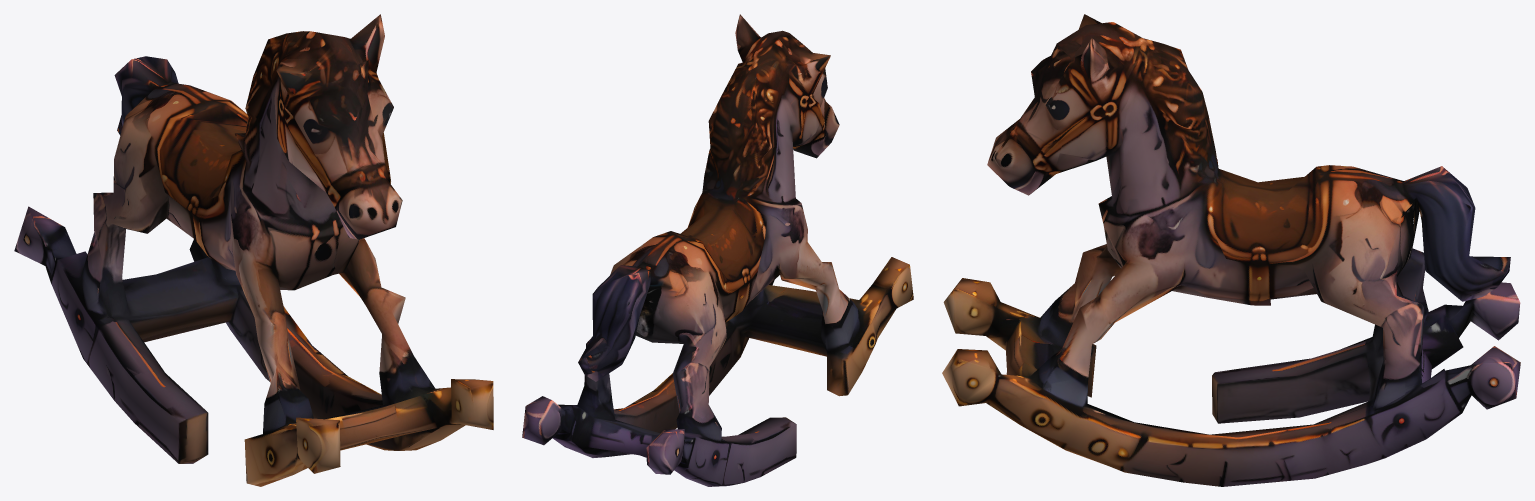
Rendered from rocking+horse+3d+model.obj.
The picture shows the model from 3 angles, left to right: view 1: azimuth 30°, elevation 25°; view 2: azimuth 150°, elevation 25°; view 3: azimuth 270°, elevation 25°; orthographic projection. The views are drawn at different scales.
Parts seen in each view (by area): view 1: tripo_node_83acbebf-1241-478d-911b-51c5a68b3a42; view 2: tripo_node_83acbebf-1241-478d-911b-51c5a68b3a42; view 3: tripo_node_83acbebf-1241-478d-911b-51c5a68b3a42.
Boxes of the visible parts, <box> form: tripo_node_83acbebf-1241-478d-911b-51c5a68b3a42: <box>14,14,493,486</box>; tripo_node_83acbebf-1241-478d-911b-51c5a68b3a42: <box>522,14,913,486</box>; tripo_node_83acbebf-1241-478d-911b-51c5a68b3a42: <box>942,14,1520,486</box>.
Bounding box in the file's own units: 0.3404 × 0.8375 × 1.
1 material, 1 textured.
